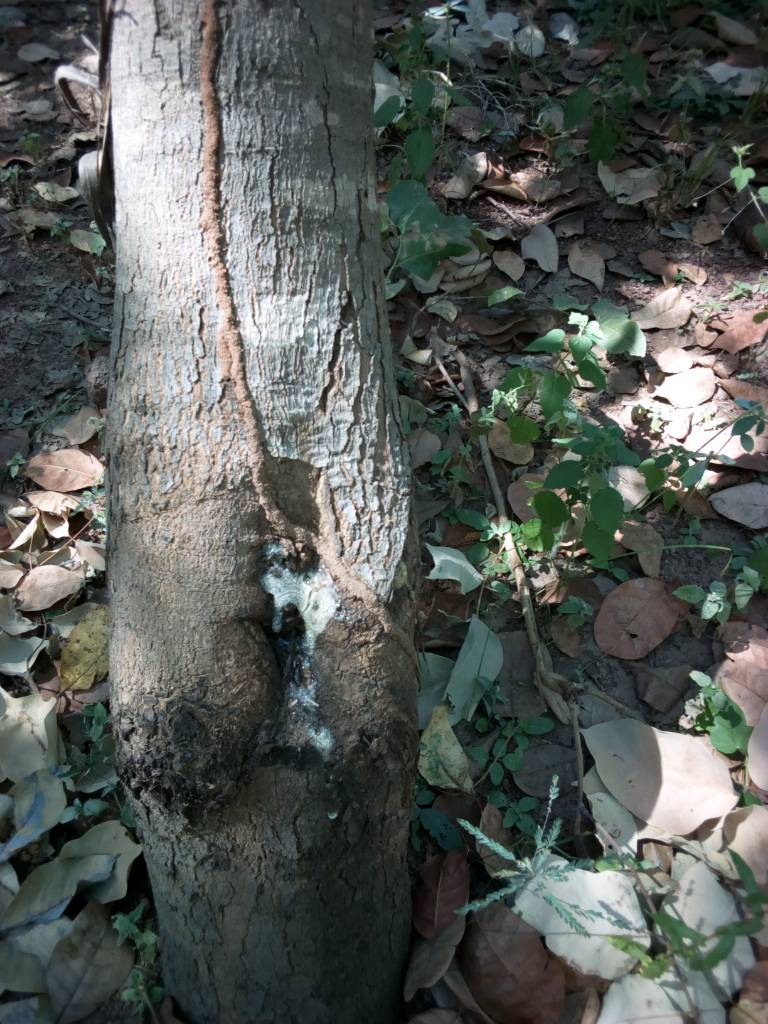Termites: (191, 5, 275, 483), (283, 514, 425, 638)
